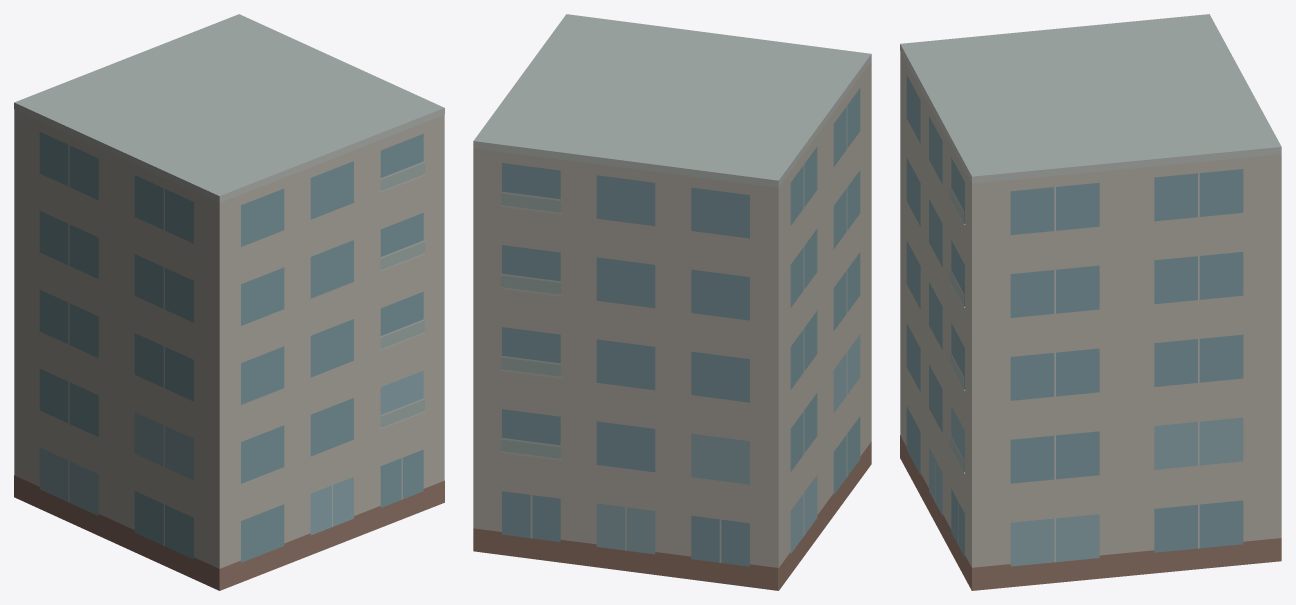
File: survey-upis-32770472.glb
3 renders of one model, left to right at view 1: azimuth 30°, elevation 25°; view 2: azimuth 150°, elevation 25°; view 3: azimuth 270°, elevation 25°, orthographic. The views are drawn at different scales.
Visible parts, largest first — view 1: survey-upis-32770472.tmp; view 2: survey-upis-32770472.tmp; view 3: survey-upis-32770472.tmp.
Boxes of the visible parts, x1,y1,x2,y2 form: survey-upis-32770472.tmp: (14,14,444,590); survey-upis-32770472.tmp: (473,14,871,590); survey-upis-32770472.tmp: (900,14,1281,590).
Size of the model in its own units: 11.75 by 13.95 by 11.66.
